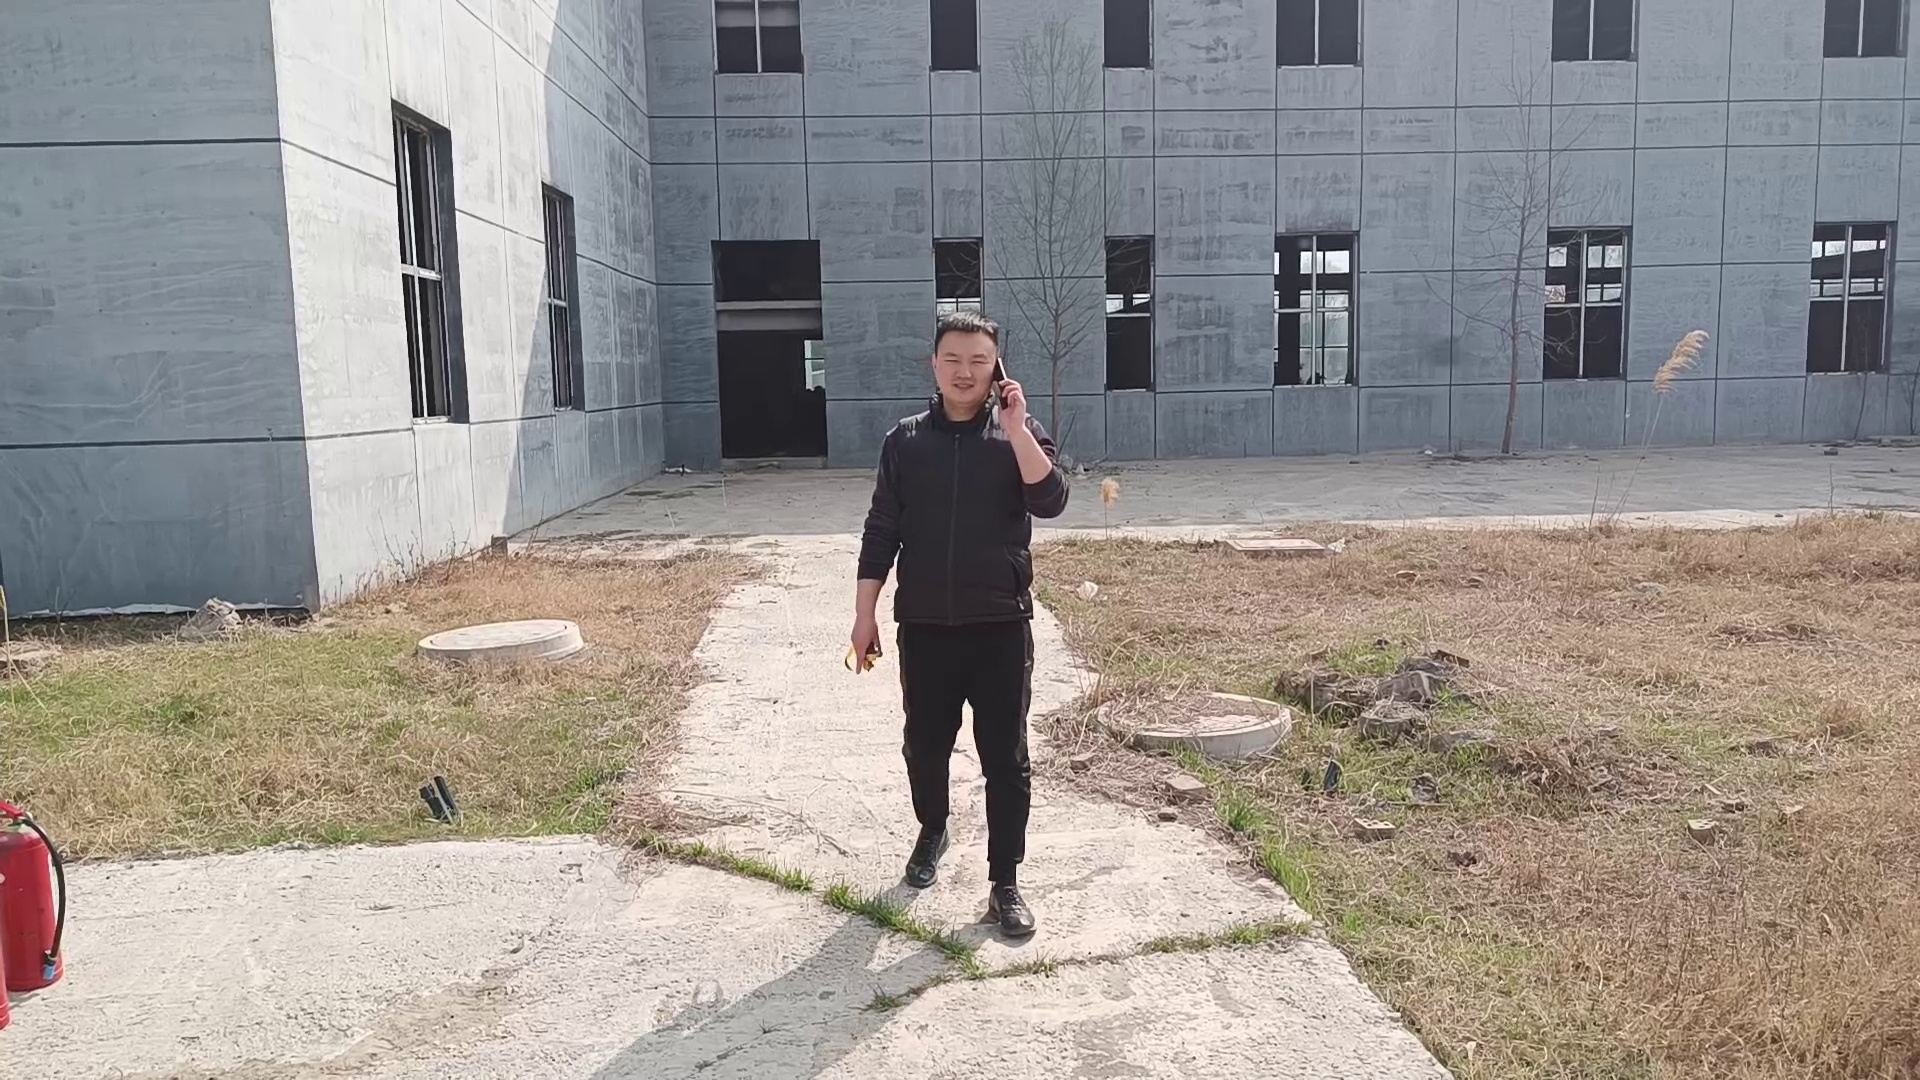phone: (934, 319, 1034, 415)
